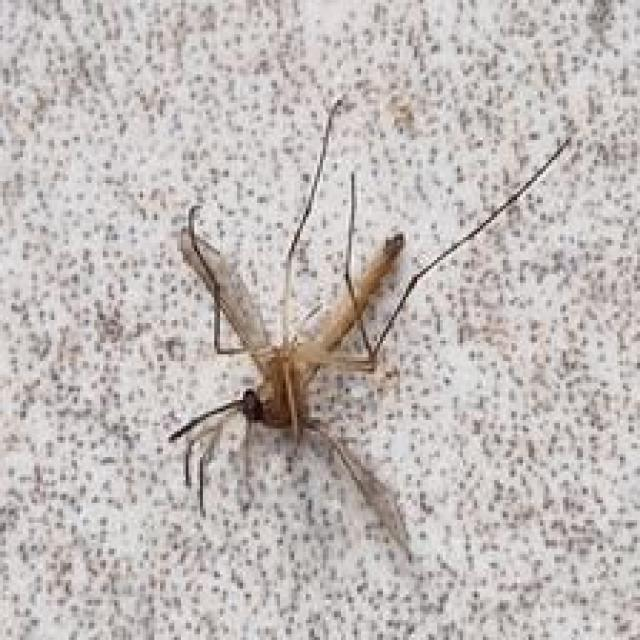Culex: (166, 94, 571, 566)
